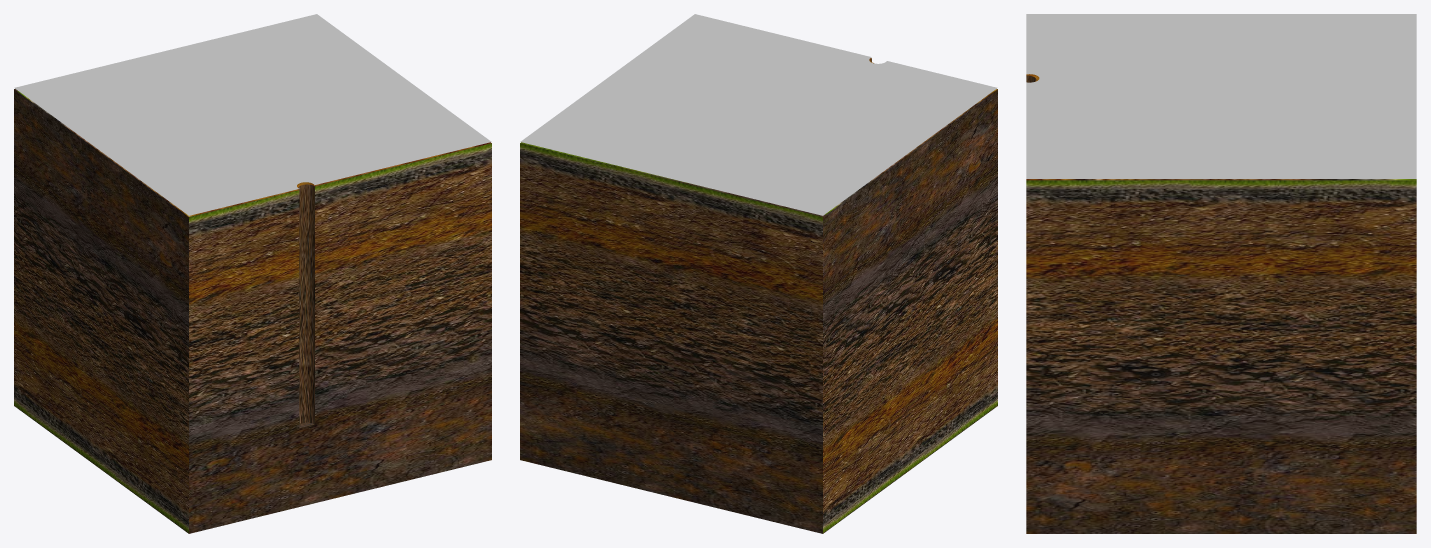
Rendered from Formacion5.fbx.
The picture shows the model from 3 angles, left to right: view 1: azimuth 30°, elevation 25°; view 2: azimuth 150°, elevation 25°; view 3: azimuth 270°, elevation 25°; orthographic projection. The views are drawn at different scales.
Visible parts, largest first — view 1: Cube, Plane; view 2: Cube, Plane; view 3: Cube, Plane.
Boxes of the visible parts, box(x1,y1,x2,y2) form: Cube: box(14, 89, 491, 533); Plane: box(14, 14, 491, 215); Cube: box(520, 58, 997, 533); Plane: box(520, 14, 997, 215); Cube: box(1026, 74, 1416, 533); Plane: box(1026, 14, 1416, 178).
Size of the model in its own units: 200 by 201 by 200.
